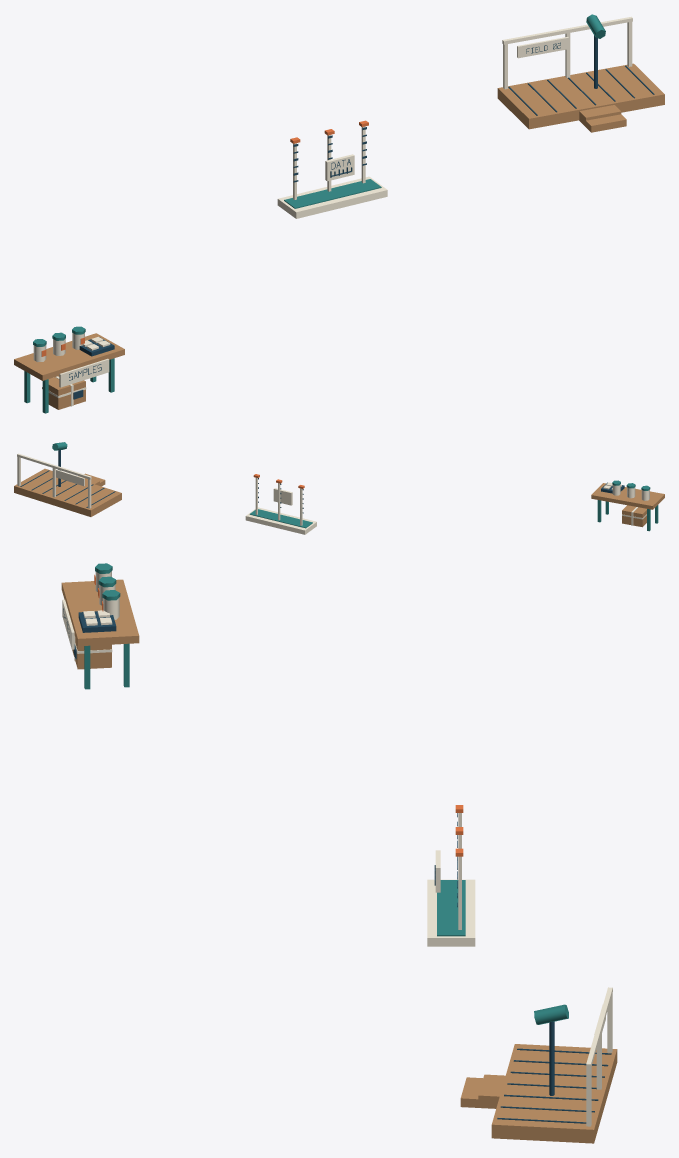
File: research.glb
3 renders of one model, top to bottom at view 1: azimuth 30°, elevation 25°; view 2: azimuth 150°, elevation 25°; view 3: azimuth 270°, elevation 25°, orthographic. The views are drawn at different scales.
Parts seen in each view (by area): view 1: static_detail_wood, static_detail_ivory, static_detail_teal, static_detail_navy; view 2: static_detail_wood, static_detail_ivory, static_detail_teal, static_detail_navy; view 3: static_detail_wood, static_detail_ivory, static_detail_teal, static_detail_navy.
Part boxes in pixels (x1=…): static_detail_wood: x1=14, y1=63, x2=664, y2=409; static_detail_ivory: x1=33, y1=16, x2=632, y2=406; static_detail_teal: x1=24, y1=14, x2=605, y2=413; static_detail_navy: x1=69, y1=35, x2=654, y2=399; static_detail_wood: x1=14, y1=468, x2=664, y2=527; static_detail_ivory: x1=17, y1=453, x2=649, y2=534; static_detail_teal: x1=52, y1=442, x2=658, y2=531; static_detail_navy: x1=20, y1=450, x2=624, y2=513; static_detail_wood: x1=61, y1=579, x2=617, y2=1143; static_detail_ivory: x1=62, y1=571, x2=612, y2=1126; static_detail_teal: x1=84, y1=563, x2=568, y2=1024; static_detail_navy: x1=63, y1=608, x2=611, y2=1123.
Size of the model in its own units: 17.5 by 1.7 by 8.08.
